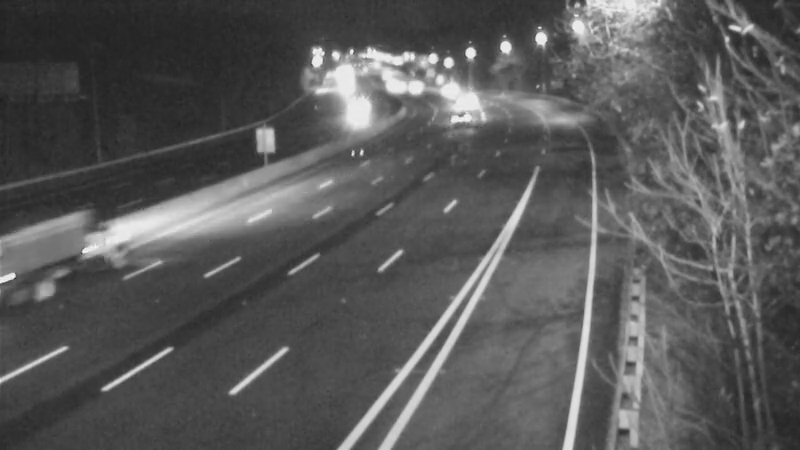vehicle: (13, 217, 93, 297), (390, 62, 440, 112), (419, 65, 469, 115), (439, 79, 489, 129), (433, 95, 483, 145), (332, 84, 382, 134)
